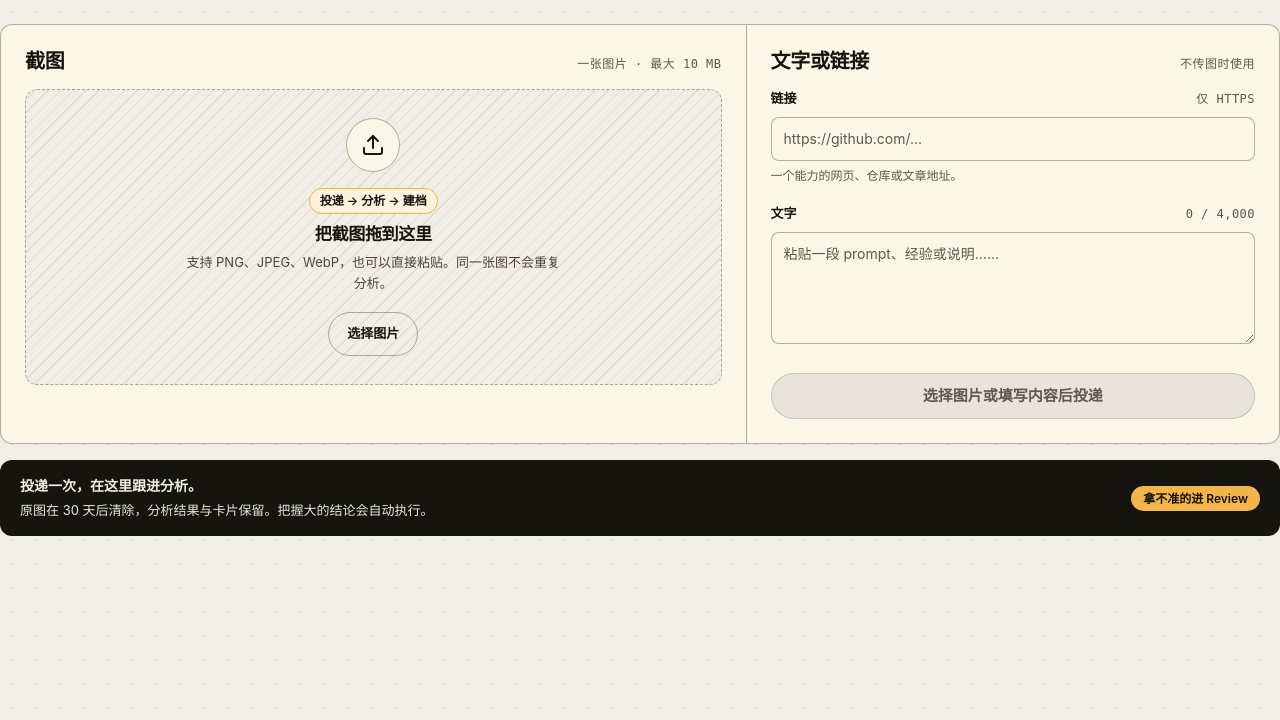
Scenario: CaptureForm › shows the duplicate notice with a link to the existing card when the API reports a duplicate
In the text box labelled "文字 0 / 4,000": (1013, 288) 770,232 -> 1255,344, type "some text"
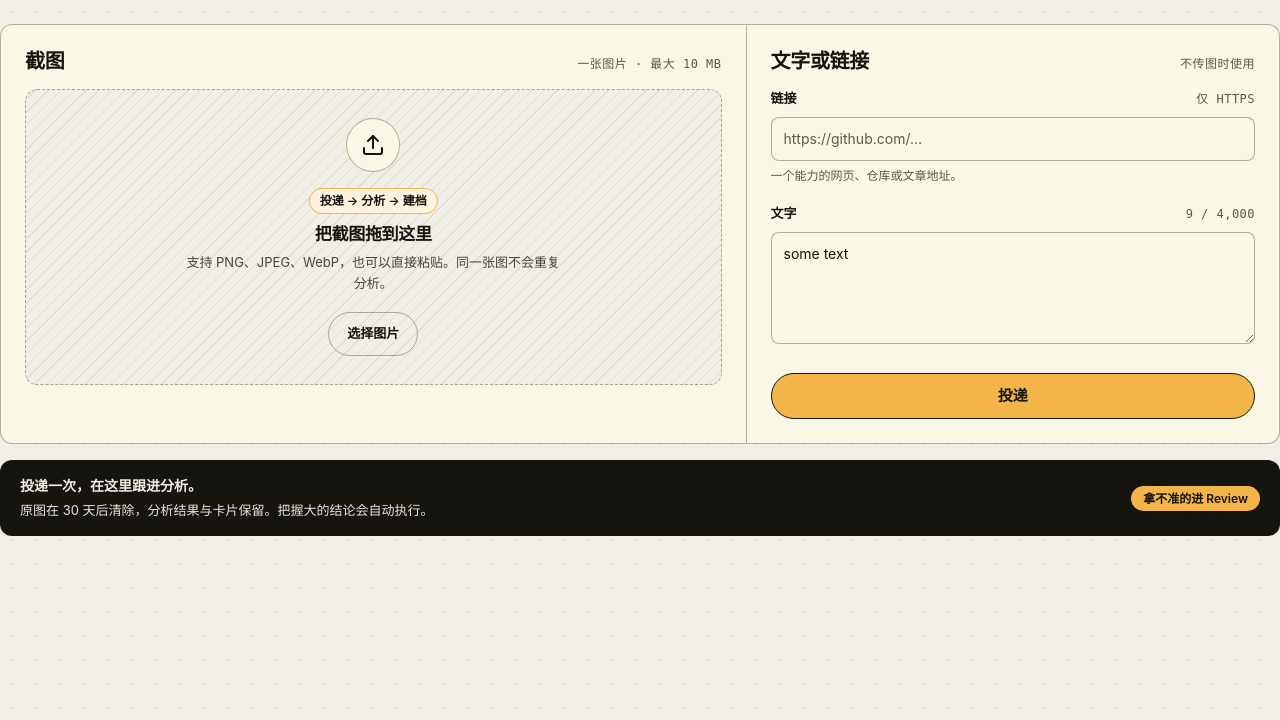
Click the button "投递": (1013, 396) 770,373 -> 1255,419
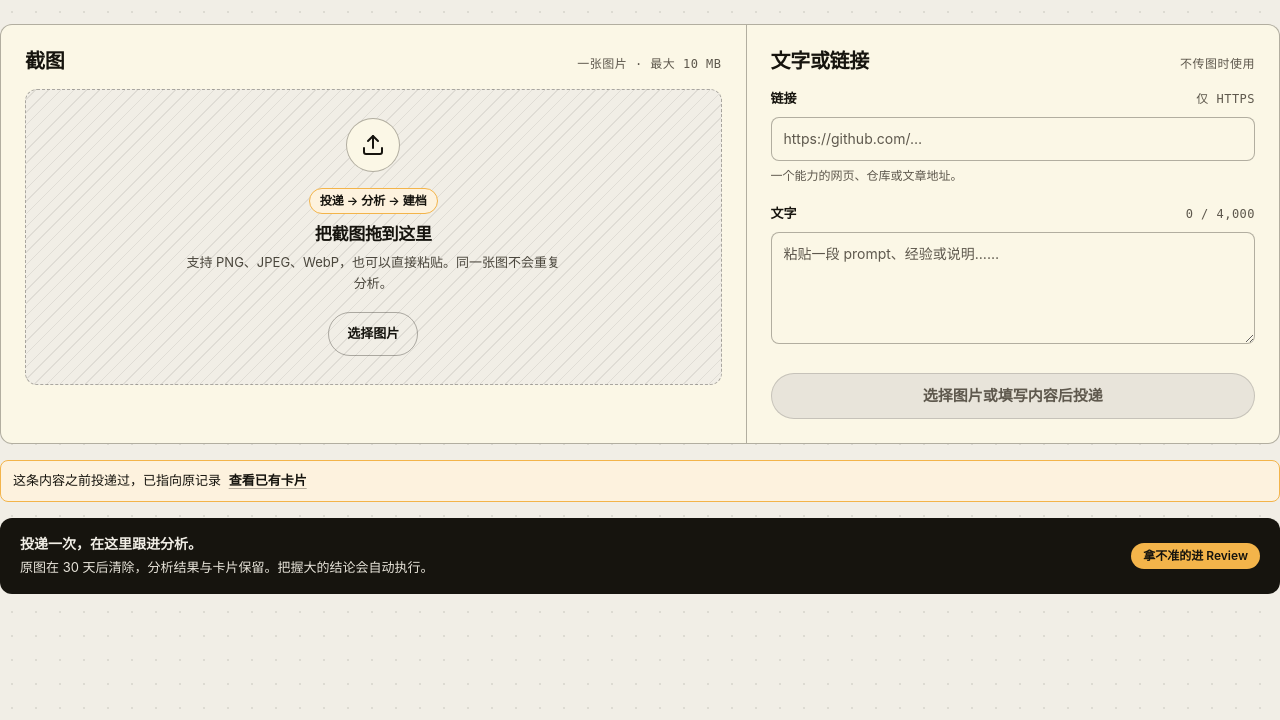
Expected: the text "这条内容之前投递过，已指向原记录 查看已有卡片" is shown, 0,460 -> 1279,502
